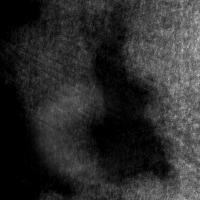patches: (89, 26, 170, 181), (28, 81, 132, 185), (1, 73, 54, 200), (65, 101, 131, 167), (1, 1, 46, 34)
